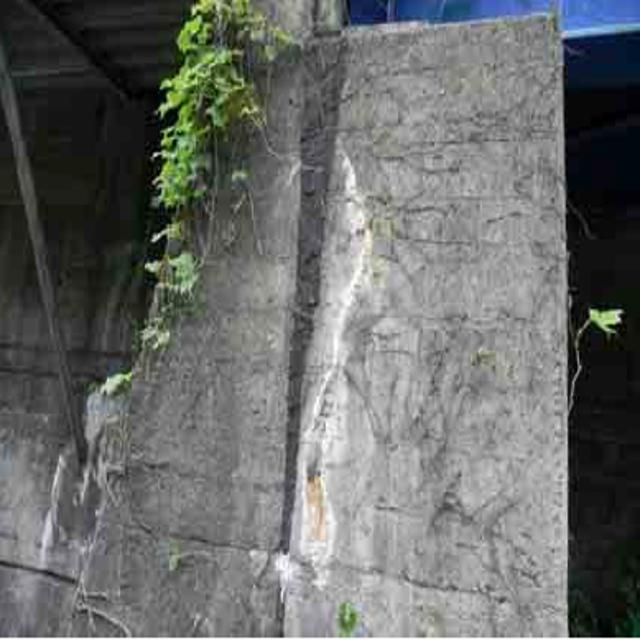freelime: (284, 363, 362, 578)
